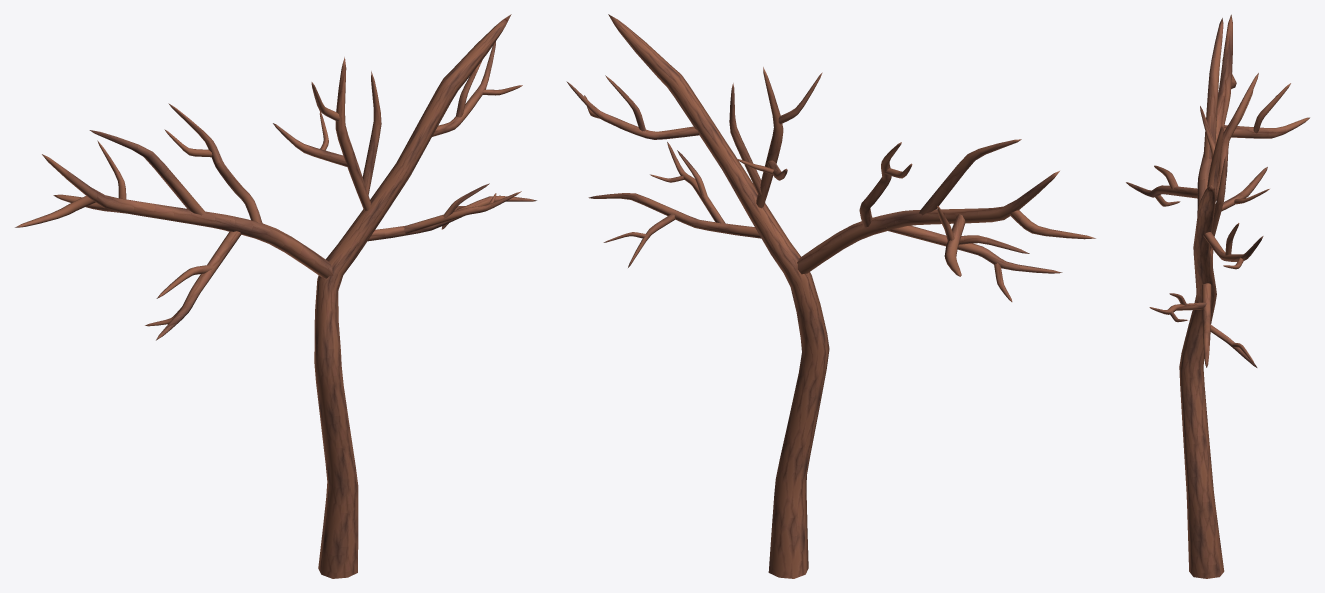
Rendered from DeadTree_4.glb.
3 views of the same model, side by side, from view 1: azimuth 30°, elevation 25°; view 2: azimuth 150°, elevation 25°; view 3: azimuth 270°, elevation 25° (orthographic). The views are drawn at different scales.
Parts seen in each view (by area): view 1: DeadTree_4; view 2: DeadTree_4; view 3: DeadTree_4.
Part boxes in pixels (x1,y1,x2,y2): DeadTree_4: (15, 14, 536, 578); DeadTree_4: (566, 14, 1095, 578); DeadTree_4: (1126, 14, 1309, 578).
Bounding box in the file's own units: 4.85 × 4.61 × 1.67.
Materials: 1 (1 with a texture image).
